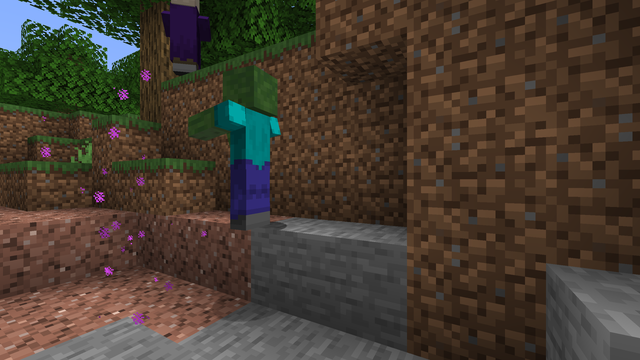sorcieres: (164, 0, 205, 76)
zombies: (216, 66, 282, 232)
